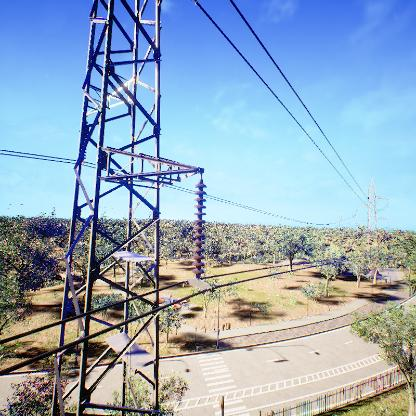insulator: (192, 181, 208, 278)
